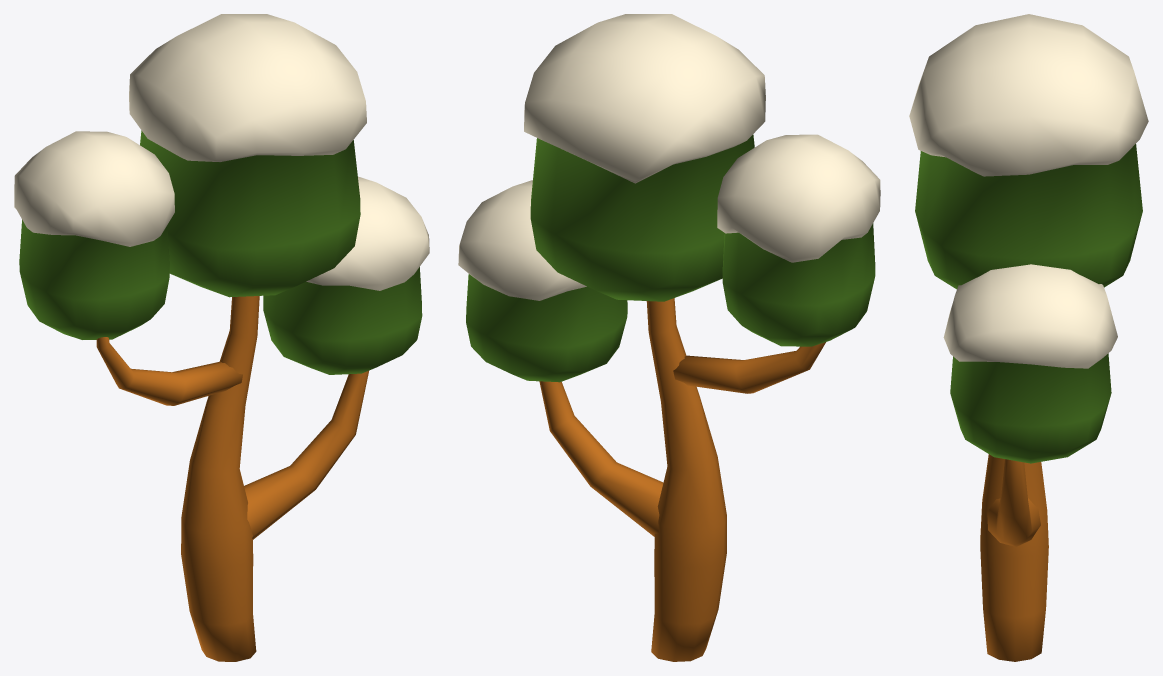
The model's file is Tree_28_Winter.fbx.
3 renders of one model, left to right at view 1: azimuth 30°, elevation 25°; view 2: azimuth 150°, elevation 25°; view 3: azimuth 270°, elevation 25°, orthographic. The views are drawn at different scales.
Visible parts, largest first — view 1: Tree_28_p2_Winter, Tree_28_p1_Winter; view 2: Tree_28_p2_Winter, Tree_28_p1_Winter; view 3: Tree_28_p2_Winter, Tree_28_p1_Winter.
Part boxes in pixels (left/top/right/bottom): Tree_28_p2_Winter: left=14, top=14, right=429, bottom=374; Tree_28_p1_Winter: left=96, top=296, right=368, bottom=661; Tree_28_p2_Winter: left=458, top=14, right=880, bottom=382; Tree_28_p1_Winter: left=539, top=298, right=825, bottom=661; Tree_28_p2_Winter: left=909, top=14, right=1148, bottom=463; Tree_28_p1_Winter: left=980, top=454, right=1048, bottom=661.
Size of the model in its own units: 436 by 661 by 225.
